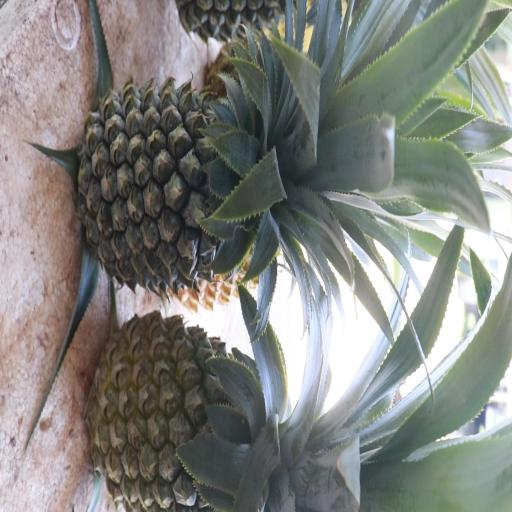------------------------------: (93, 308, 286, 506)
